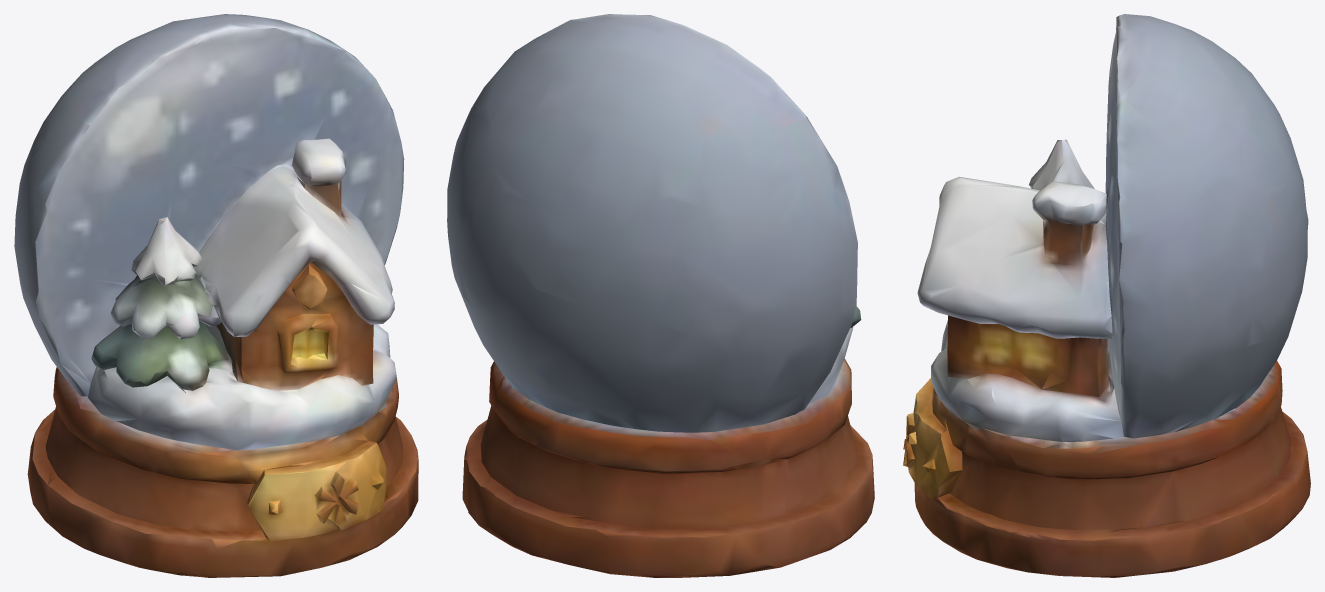
The model's file is deco34.glb.
3 views of the same model, side by side, from view 1: azimuth 30°, elevation 25°; view 2: azimuth 150°, elevation 25°; view 3: azimuth 270°, elevation 25° (orthographic). The views are drawn at different scales.
Bounding box in the file's own units: 0.2256 × 0.2723 × 0.2137.
Materials: 1 (1 with a texture image).
